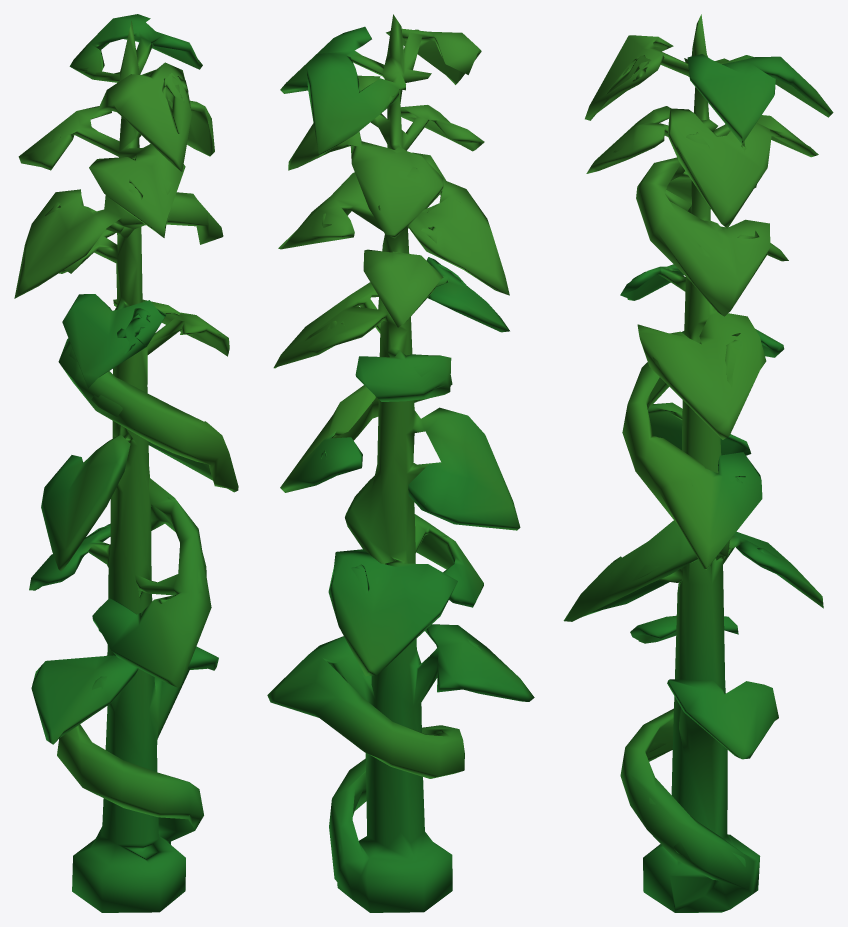
File: gen3d-beanstalk-lod0.glb
The picture shows the model from 3 angles, left to right: view 1: azimuth 30°, elevation 25°; view 2: azimuth 150°, elevation 25°; view 3: azimuth 270°, elevation 25°; orthographic projection.
Parts seen in each view (by area): view 1: part_0; view 2: part_0; view 3: part_0.
Boxes of the visible parts, x1,y1,x2,y2 form: part_0: (14, 14, 238, 912); part_0: (267, 14, 534, 912); part_0: (563, 14, 833, 912).
Size of the model in its own units: 0.2713 by 0.9999 by 0.2782.
